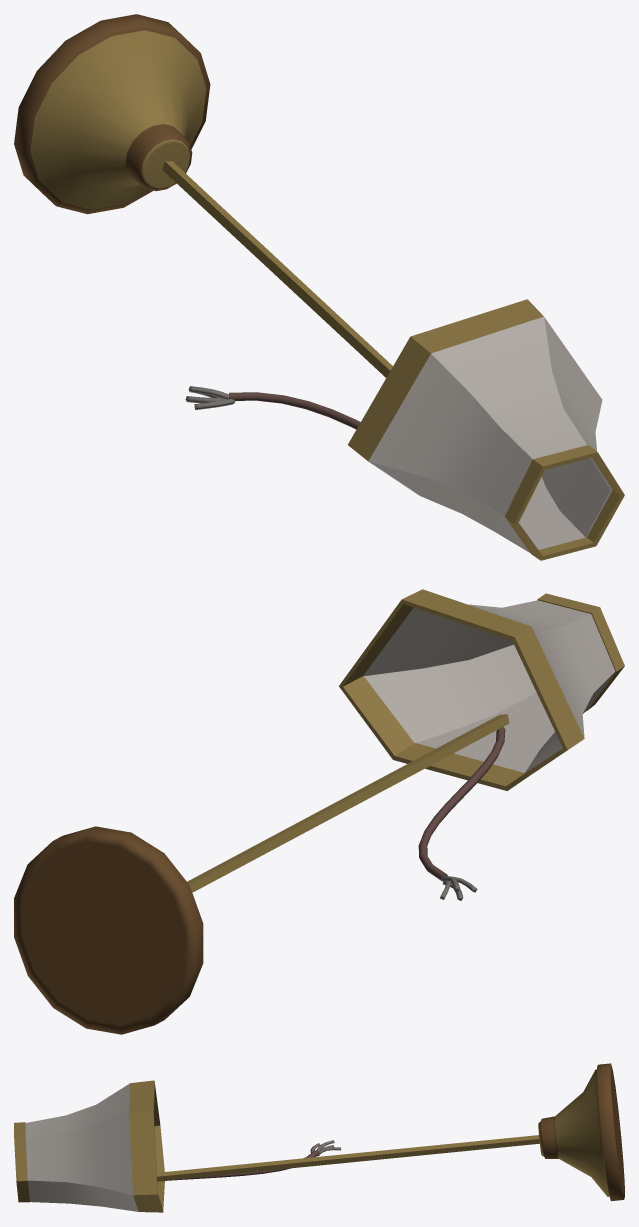
Rendered from lamp_fallen.gltf.
3 views of the same model, one above another, from view 1: azimuth 30°, elevation 25°; view 2: azimuth 150°, elevation 25°; view 3: azimuth 270°, elevation 25° (orthographic). The views are drawn at different scales.
Visible parts, largest first — view 1: Cylinder.006, Cylinder.004, Cube.019, BézierCurve, Plane.004; view 2: Cylinder.006, Cylinder.004, Cube.019, BézierCurve; view 3: Cylinder.006, Cylinder.004, Cube.019, BézierCurve, Plane.004.
Boxes of the visible parts, left/top/right/bottom form: Cylinder.006: left=348, top=299, right=624, bottom=560; Cylinder.004: left=14, top=14, right=210, bottom=214; Cube.019: left=162, top=161, right=392, bottom=377; BézierCurve: left=229, top=392, right=360, bottom=429; Plane.004: left=185, top=386, right=235, bottom=409; Cylinder.006: left=339, top=589, right=624, bottom=790; Cylinder.004: left=14, top=826, right=203, bottom=1034; Cube.019: left=187, top=714, right=509, bottom=892; BézierCurve: left=418, top=727, right=505, bottom=881; Cylinder.006: left=14, top=1080, right=164, bottom=1212; Cylinder.004: left=538, top=1063, right=624, bottom=1201; Cube.019: left=156, top=1135, right=539, bottom=1181; BézierCurve: left=162, top=1150, right=318, bottom=1181; Plane.004: left=310, top=1140, right=341, bottom=1156.
Size of the model in its own units: 0.5859 by 0.4139 by 1.82.
